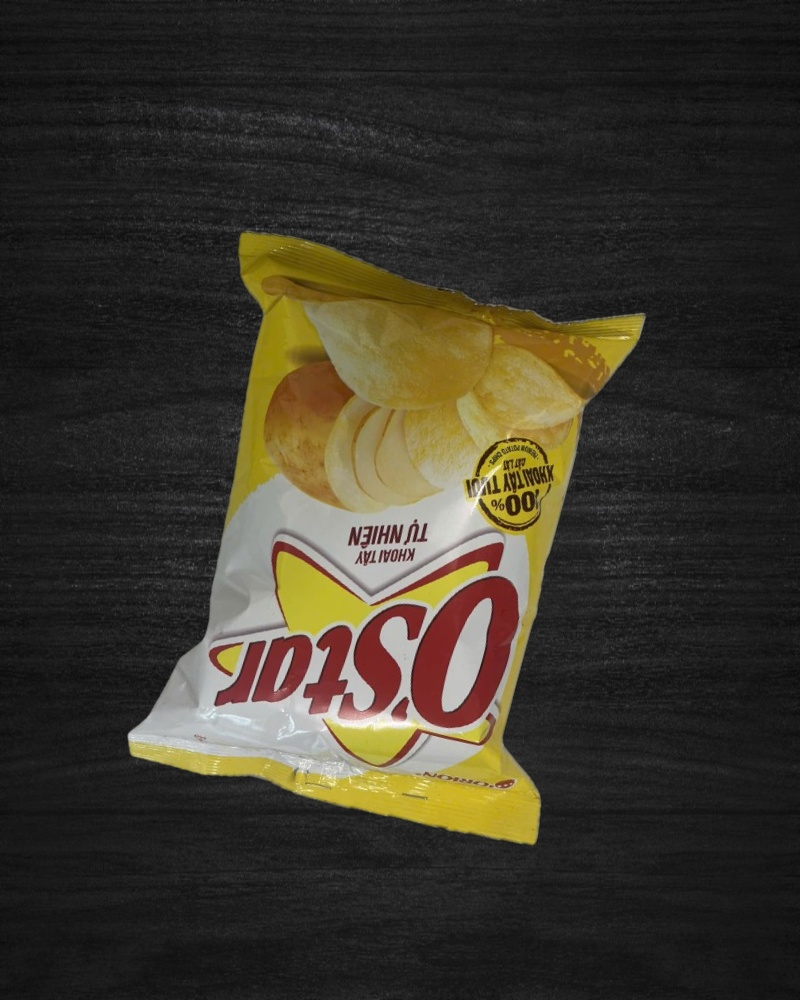Snack cua: (109, 215, 672, 857)
